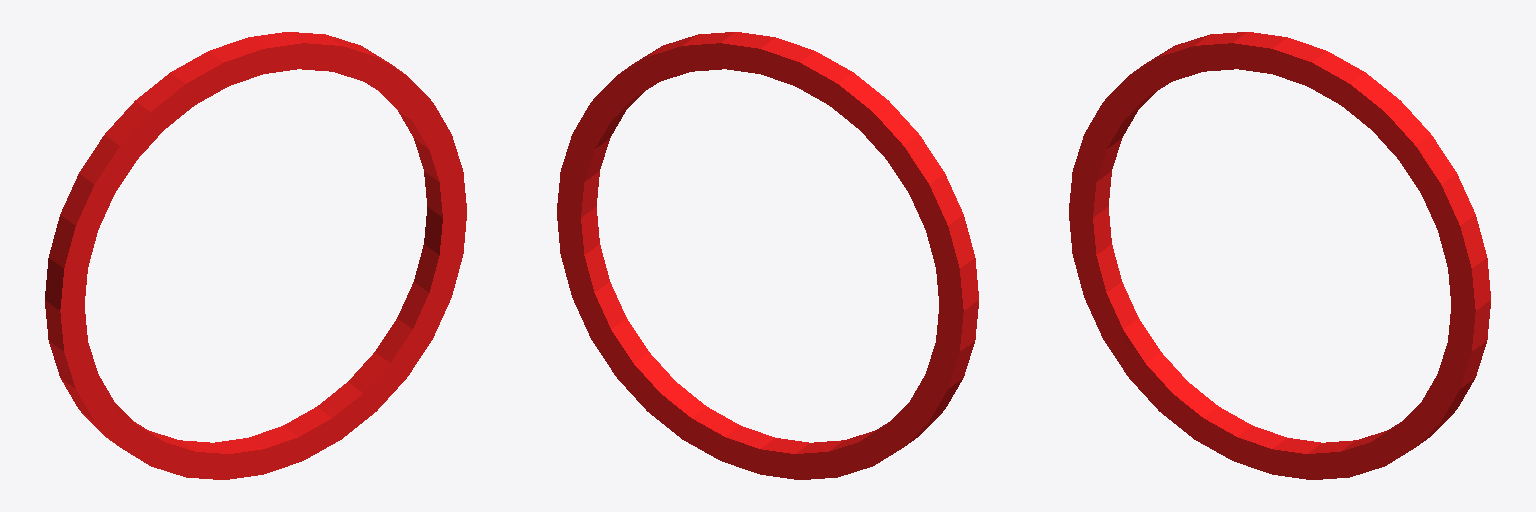
The picture shows the model from 3 angles: view 1: azimuth 30°, elevation 25°; view 2: azimuth 150°, elevation 25°; view 3: azimuth 330°, elevation 25°; orthographic projection.
Parts seen in each view (by area): view 1: Cylinder; view 2: Cylinder; view 3: Cylinder.
Part boxes in pixels (x1,y1,x2,y2): Cylinder: (45, 32, 466, 479); Cylinder: (557, 32, 978, 479); Cylinder: (1069, 32, 1490, 479).
Size of the model in its own units: 12 by 12 by 0.8.
1 materials, 1 textured.